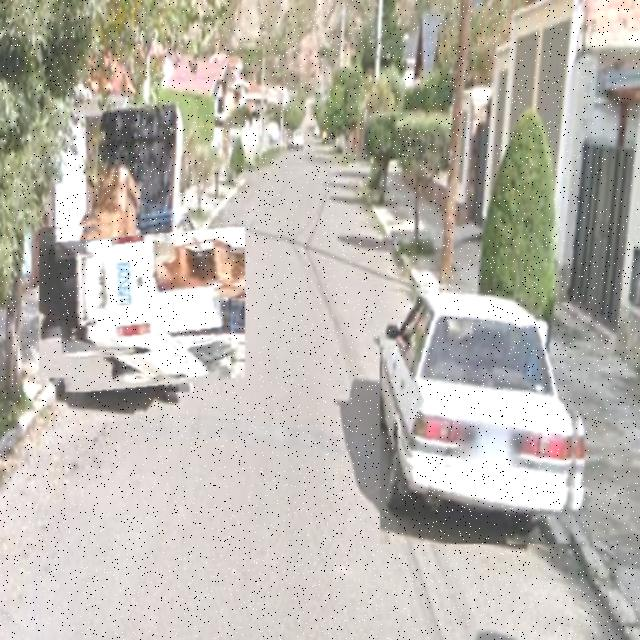car: (381, 281, 591, 545), (54, 213, 232, 393)
